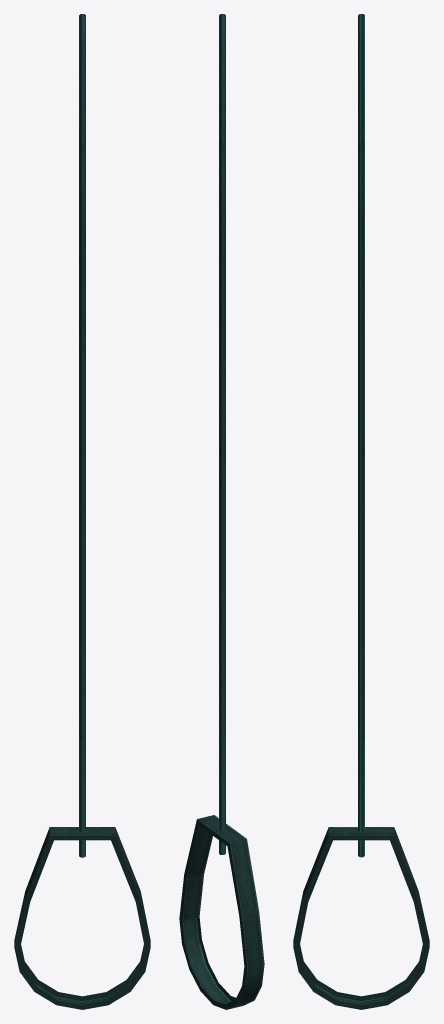
The model's file is p_glo_pipes_aqua_d4_holder_lod0.glb.
3 views of the same model, side by side, from view 1: azimuth 90°, elevation 25°; view 2: azimuth 210°, elevation 25°; view 3: azimuth 270°, elevation 25° (orthographic).
Visible parts, largest first — view 1: surf0; view 2: surf0; view 3: surf0.
Boxes of the visible parts, left/top/right/bottom form: surf0: left=14, top=14, right=150, bottom=1009; surf0: left=179, top=14, right=264, bottom=1009; surf0: left=293, top=14, right=429, bottom=1009.
Bounding box in the file's own units: 1.29 × 70.18 × 8.74.
